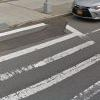Crosswalk: (10, 39, 99, 100)
